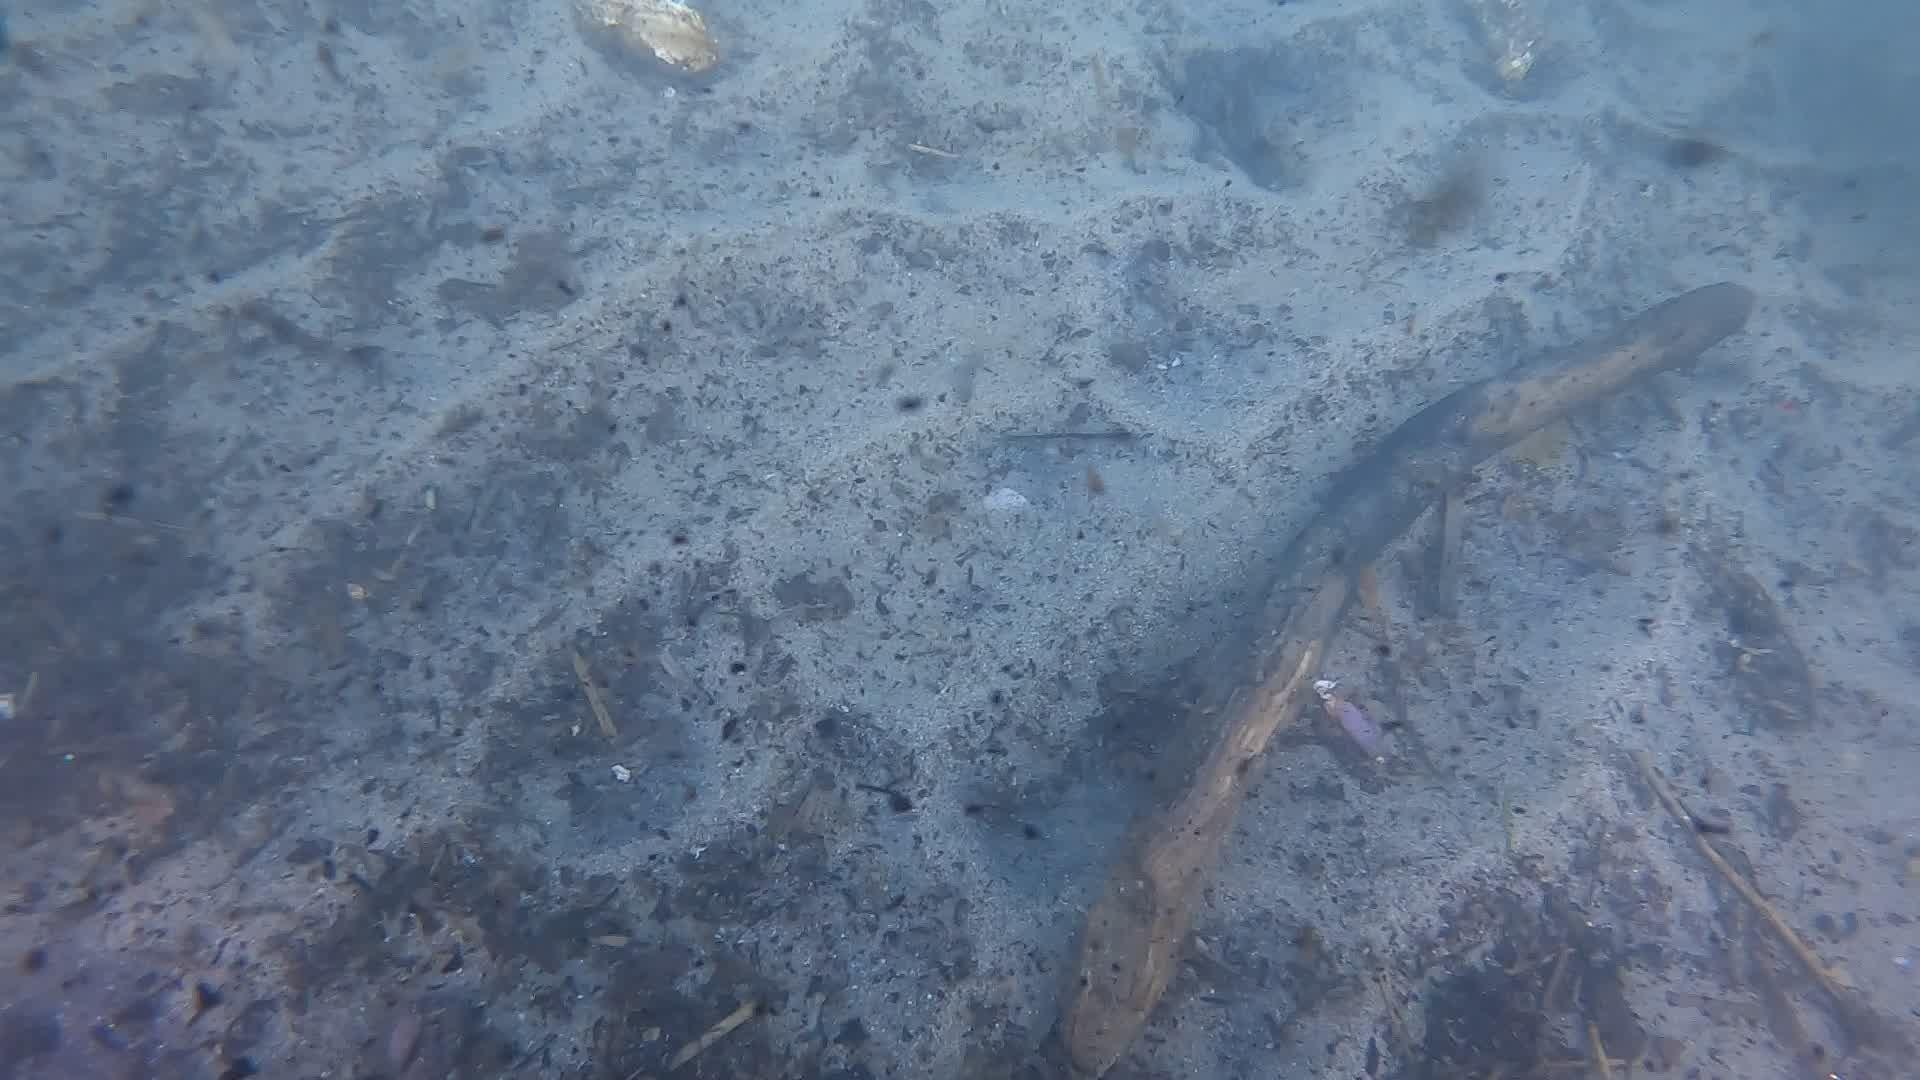wood: (1040, 280, 1756, 1080)
